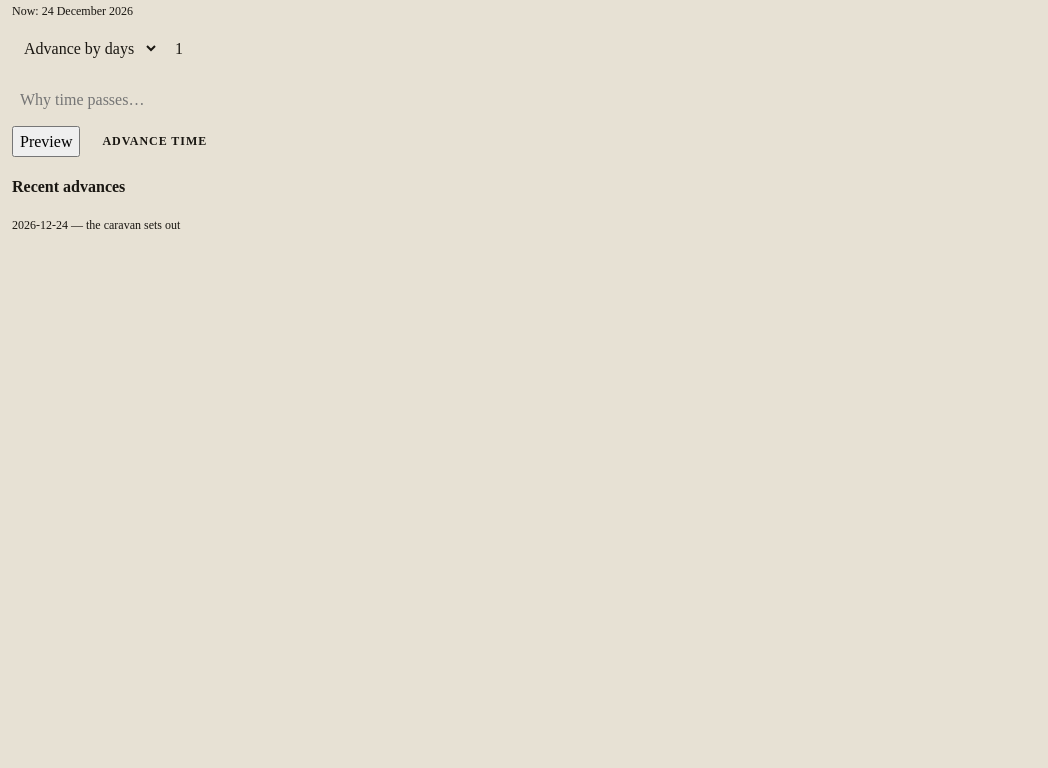
Test case: a yearless birthday in the clock preview does not claim an age
Expected: the text "Now: 24 December 2026" is shown, [12,4,133,18]
Replace the text in the number field named "Days" with "3" at (602, 48), box [167,31,1036,66]
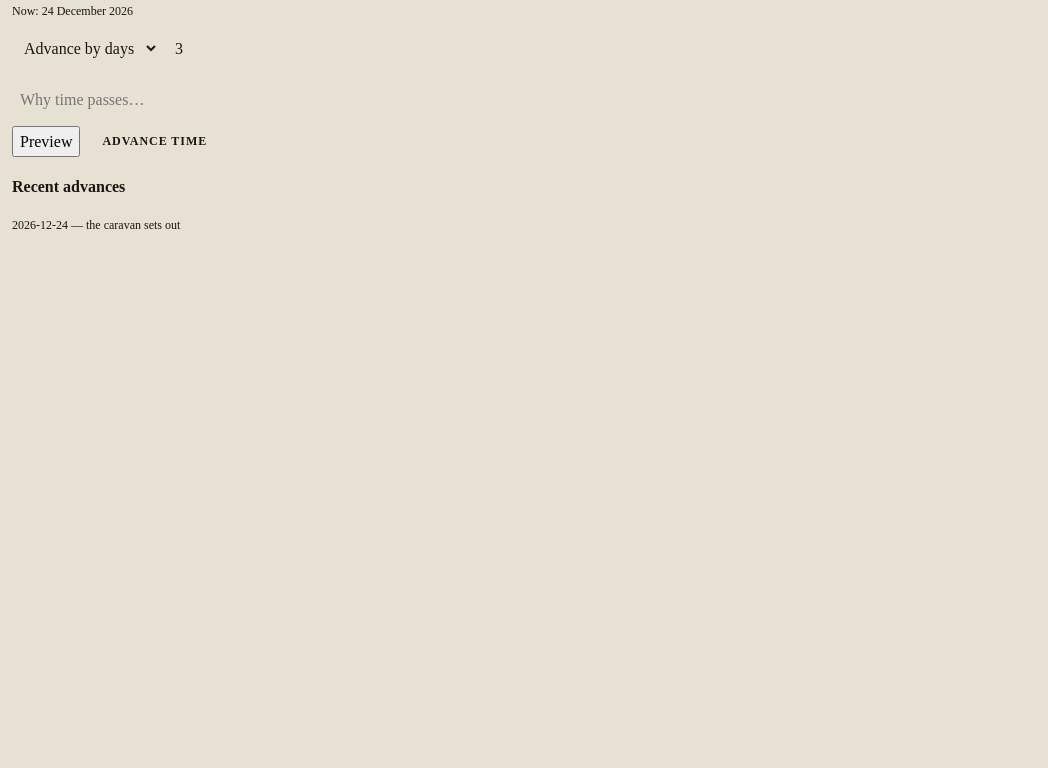
Click the button "Preview".
click(46, 142)  # box [12,126,80,157]
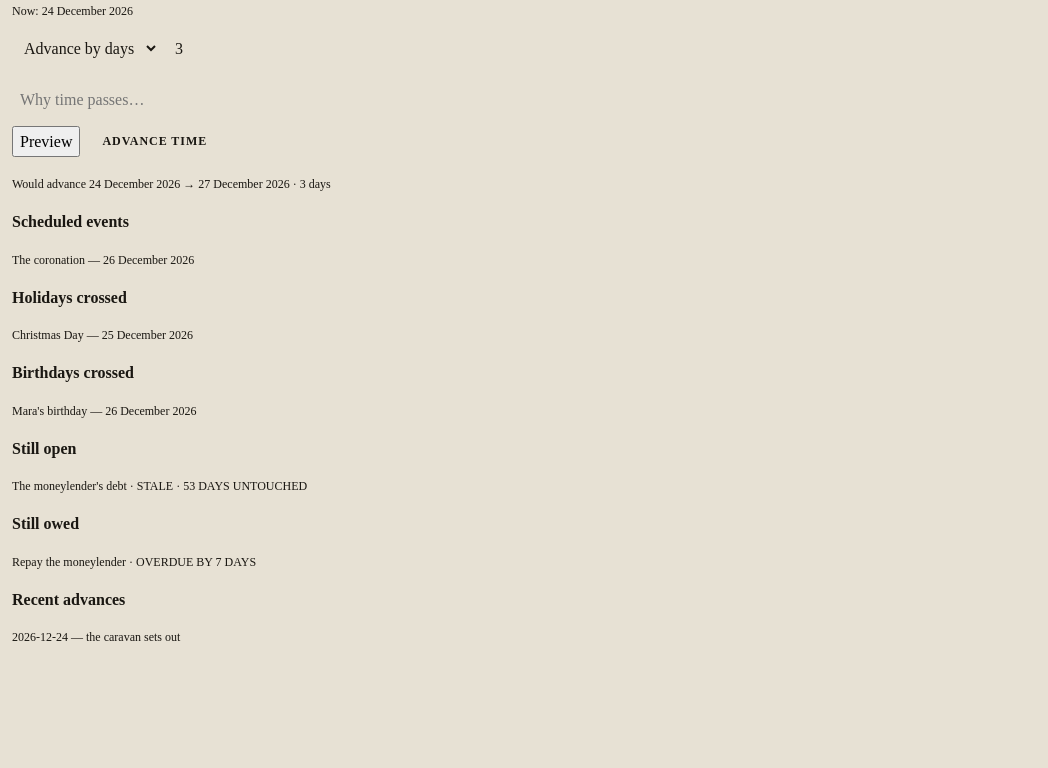
Result: the text "Mara's birthday — 26 December 2026" is shown at [12,404,196,418]
